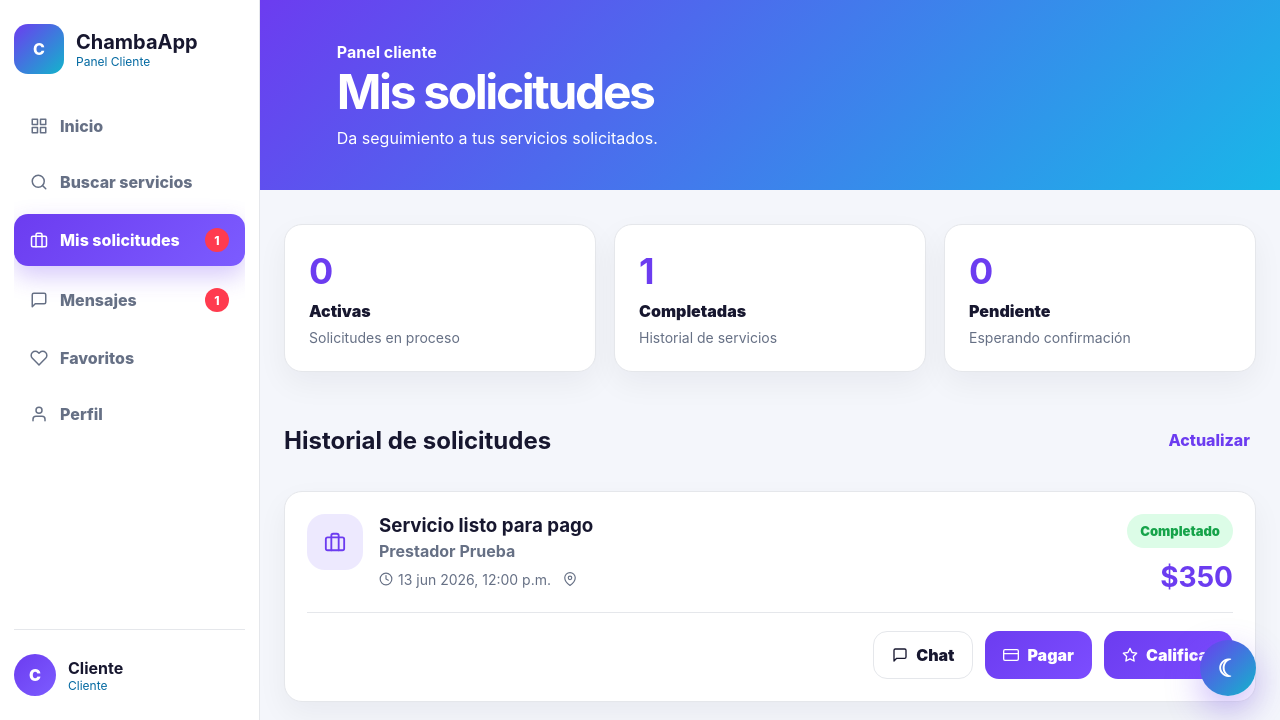
Test: Flujo de Pago — Cliente › debe navegar al flujo de pago desde una solicitud completada
Click the button "Pagar" at (1040, 655), box [986,631,1093,679]
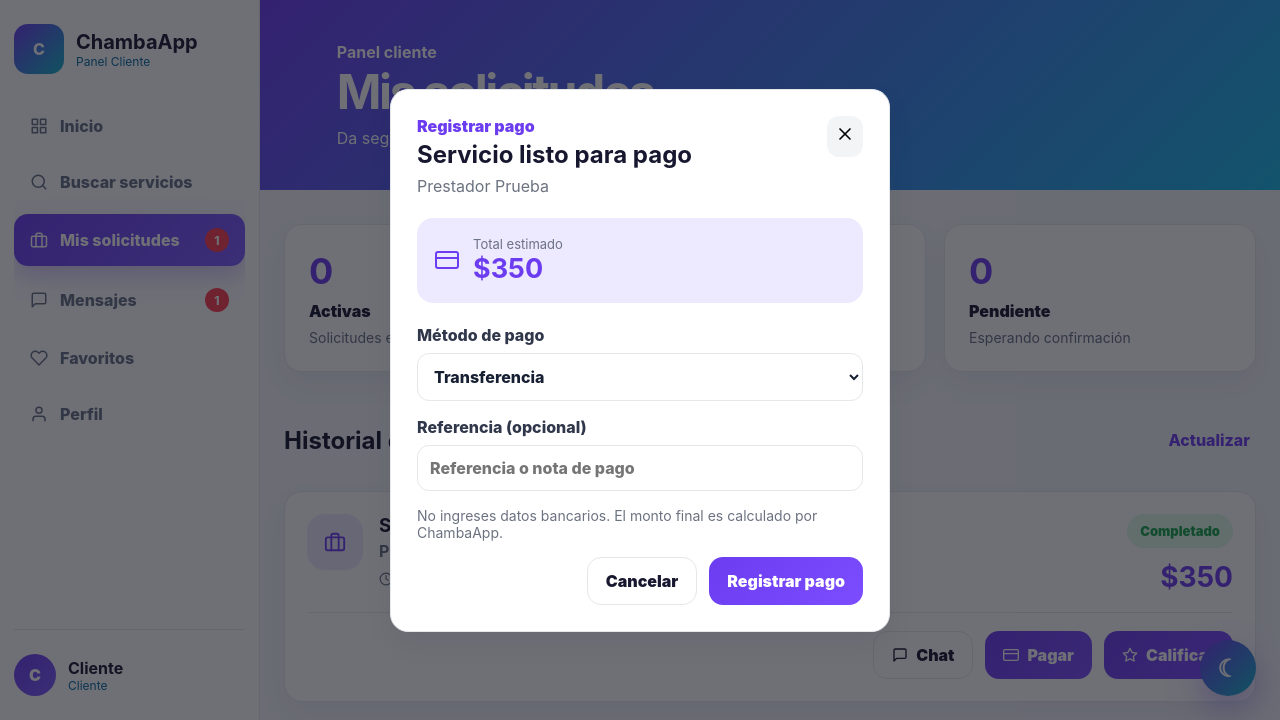
Check: the text "Registrar pago" is shown, box [417,116,535,136]
